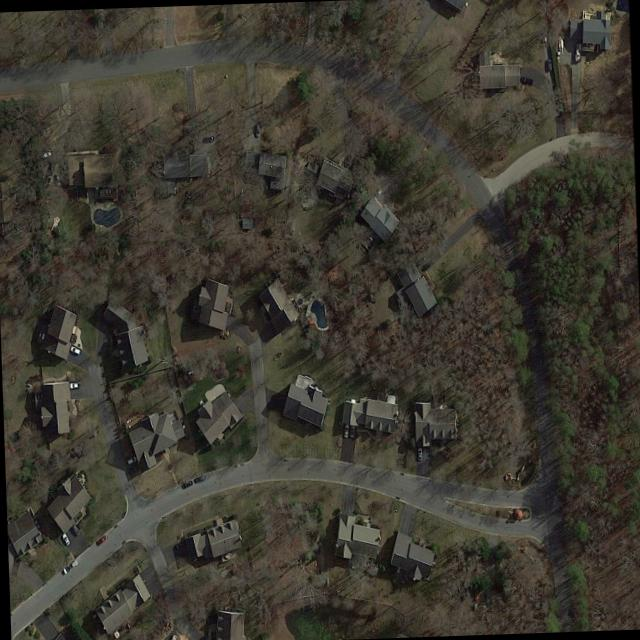small-vehicle: (62, 557, 80, 574), (419, 257, 435, 271), (94, 532, 109, 545), (71, 522, 81, 536), (414, 255, 426, 266), (61, 532, 71, 545), (127, 453, 137, 464), (255, 121, 262, 136), (182, 479, 193, 488), (194, 473, 205, 482), (70, 344, 81, 353), (547, 57, 554, 70), (53, 172, 60, 185), (188, 138, 195, 151), (41, 149, 52, 157), (69, 380, 80, 388), (521, 75, 532, 83), (344, 422, 350, 436), (417, 445, 423, 459), (350, 423, 356, 436), (202, 135, 212, 141)
